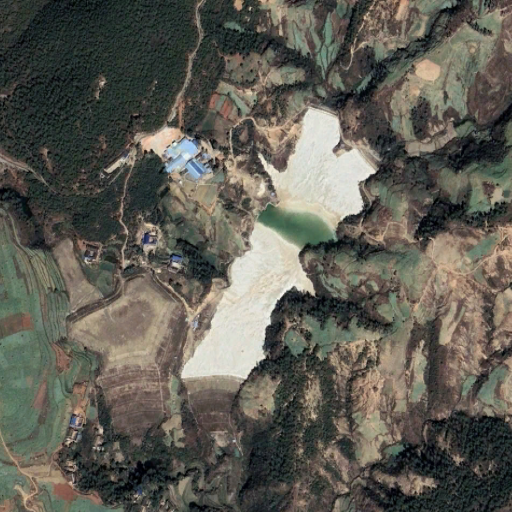tp: (183, 107, 382, 454)
